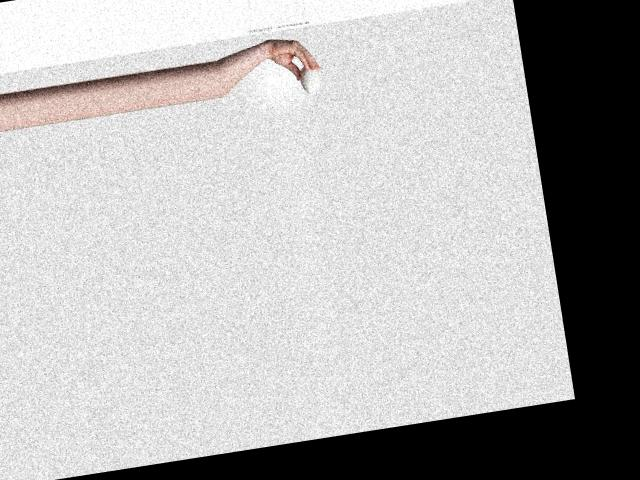egg: (297, 63, 321, 95)
